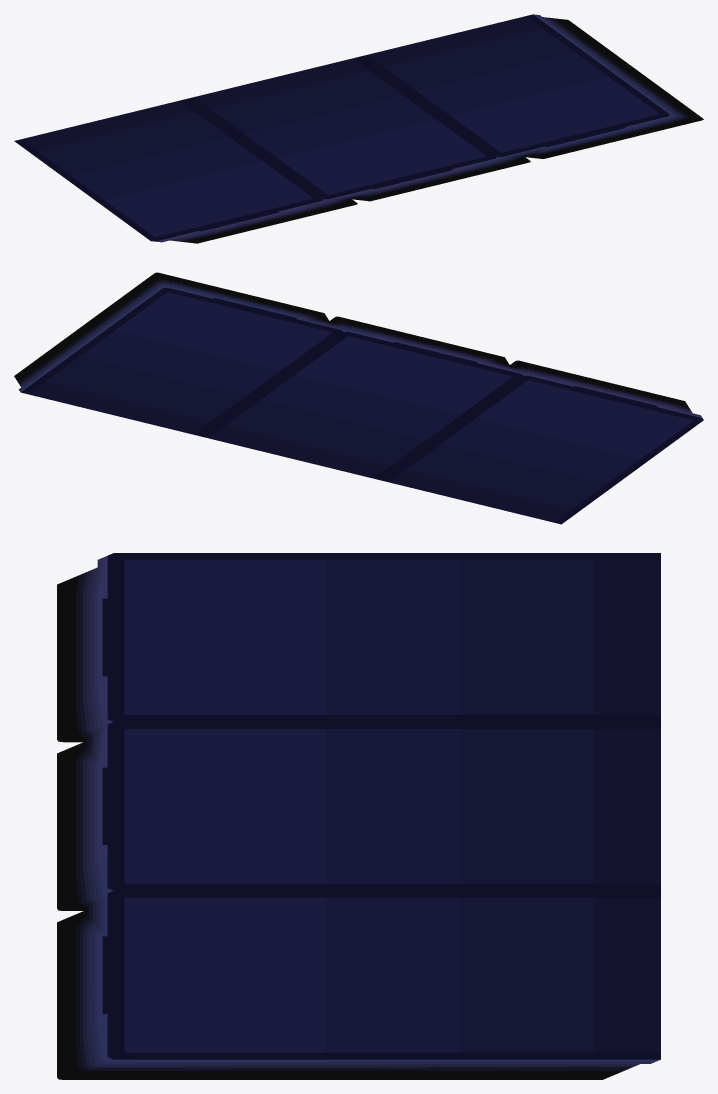
The picture shows the model from 3 angles, top to bottom: view 1: azimuth 30°, elevation 25°; view 2: azimuth 150°, elevation 25°; view 3: azimuth 270°, elevation 25°; orthographic projection. The views are drawn at different scales.
Visible parts, largest first — view 1: Joint_0_Object_0; view 2: Joint_0_Object_0; view 3: Joint_0_Object_0.
Boxes of the visible parts, bbox=[...] form: Joint_0_Object_0: bbox=[14, 14, 703, 243]; Joint_0_Object_0: bbox=[14, 272, 703, 524]; Joint_0_Object_0: bbox=[57, 553, 660, 1079].
Bounding box in the file's own units: 4930 × 0 × 2387.
1 material, 1 textured.
